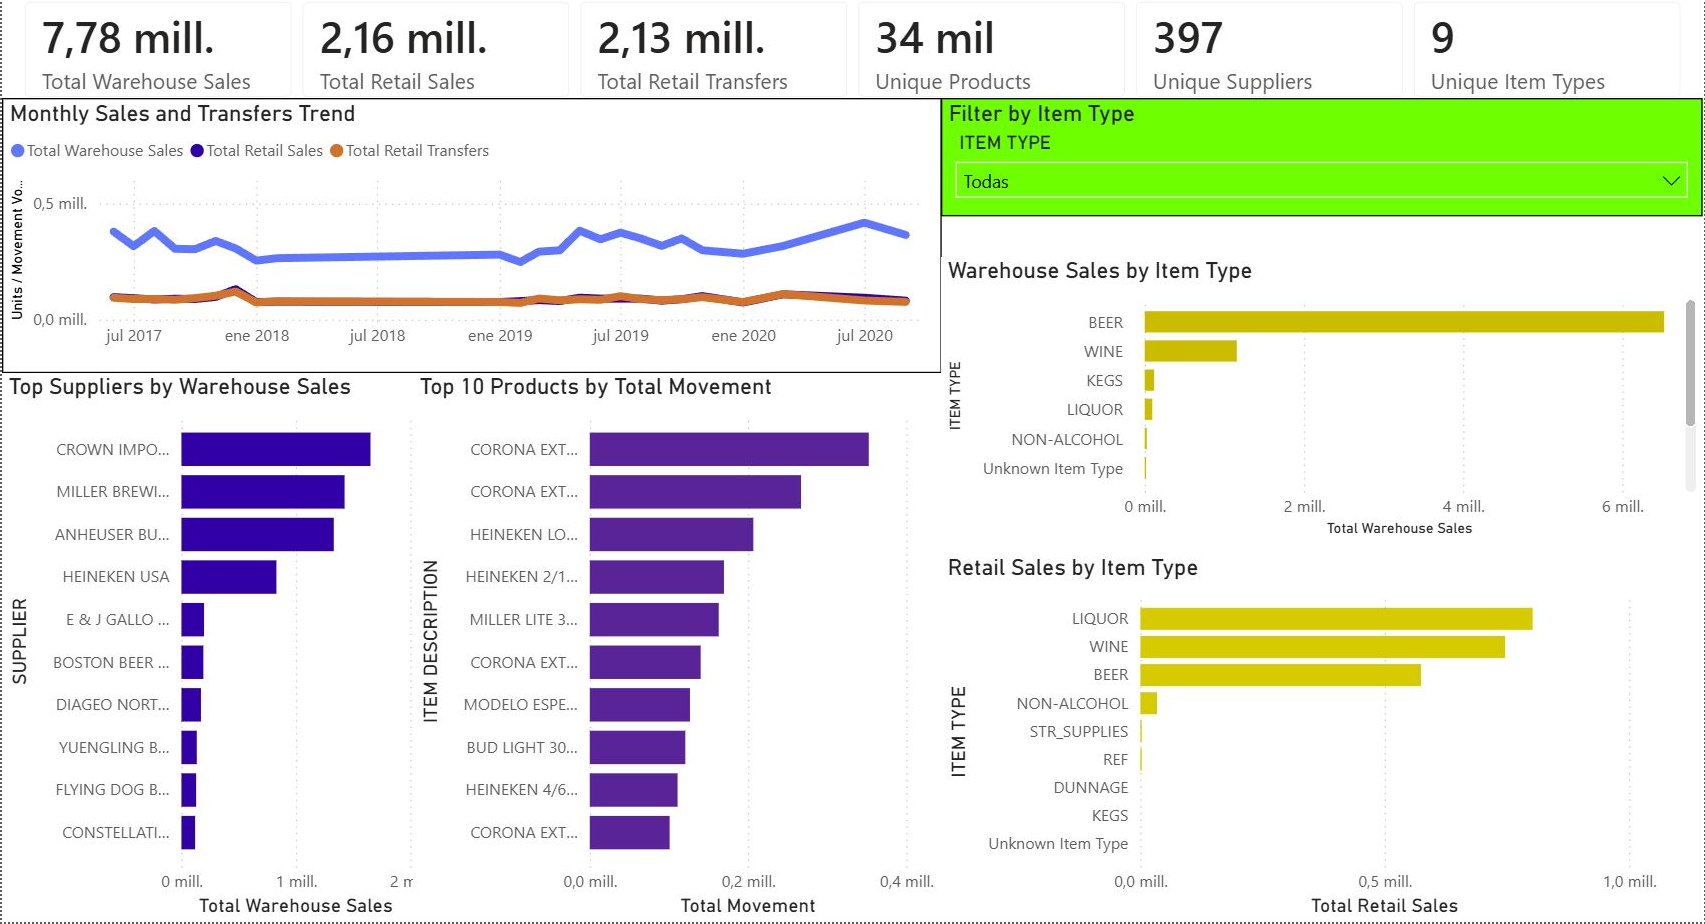

Layout of this report page (visuals, bound fields, positions):
{"tool":"powerbi","page":{"name":"Página 1","canvas":[1280,720],"ordinal":0},"visuals":[{"type":"cardVisual","fields":{"Data":["Warehouse_and_Retail_Sales$.Total Warehouse Sales","Warehouse_and_Retail_Sales$.Total Retail Sales","Warehouse_and_Retail_Sales$.Total Retail Transfers","Warehouse_and_Retail_Sales$.Unique Products","Warehouse_and_Retail_Sales$.Unique Suppliers","Warehouse_and_Retail_Sales$.Unique Item Types"]},"box":[0,10.9,1280.3,106.2],"z":0},{"type":"lineChart","title":"Monthly Sales and Transfers Trend","fields":{"Y":["Warehouse_and_Retail_Sales$.Total Warehouse Sales","Warehouse_and_Retail_Sales$.Total Retail Sales","Warehouse_and_Retail_Sales$.Total Retail Transfers"],"Category":["Warehouse_and_Retail_Sales$.DATE"]},"box":[0,100.2,706.9,206.8],"z":1000},{"type":"barChart","title":"Warehouse Sales by Item Type","fields":{"Category":["Warehouse_and_Retail_Sales$.ITEM TYPE"],"Y":["Warehouse_and_Retail_Sales$.Total Warehouse Sales"]},"box":[706.7,219.8,573.1,214.7],"z":2000},{"type":"barChart","title":"Retail Sales by Item Type","fields":{"Category":["Warehouse_and_Retail_Sales$.ITEM TYPE"],"Y":["Warehouse_and_Retail_Sales$.Total Retail Sales"]},"box":[706.7,443.1,543.6,277.2],"z":3000},{"type":"slicer","title":"Filter by Item Type","fields":{"Values":["Warehouse_and_Retail_Sales$.ITEM TYPE"]},"box":[706.7,99.8,573.1,89.1],"z":4000},{"type":"barChart","title":"Top Suppliers by Warehouse Sales","fields":{"Category":["Warehouse_and_Retail_Sales$.SUPPLIER"],"Y":["Warehouse_and_Retail_Sales$.Total Warehouse Sales"]},"box":[0,306.7,328.2,413.7],"z":5000},{"type":"barChart","title":"Top 10 Products by Total Movement","fields":{"Category":["Warehouse_and_Retail_Sales$.ITEM DESCRIPTION"],"Y":["Warehouse_and_Retail_Sales$.Total Movement"]},"box":[309.5,306.7,397.1,413.7],"z":6000}]}

Visuals, with their boxes on the page's 1280x720 design canvas (x1, y1, x2, y2). These are canvas units, not pixel positions in the 1705x924 screenshot, which may show the page scaled, cropped or inside an application window:
cardVisual - Warehouse_and_Retail_Sales$.Total Warehouse Sales x Warehouse_and_Retail_Sales$.Total Retail Sales: <box>0,11,1280,117</box>
"Monthly Sales and Transfers Trend" lineChart: <box>0,100,707,307</box>
"Warehouse Sales by Item Type" barChart: <box>707,220,1280,434</box>
"Retail Sales by Item Type" barChart: <box>707,443,1250,720</box>
"Filter by Item Type" slicer: <box>707,100,1280,189</box>
"Top Suppliers by Warehouse Sales" barChart: <box>0,307,328,720</box>
"Top 10 Products by Total Movement" barChart: <box>310,307,707,720</box>
